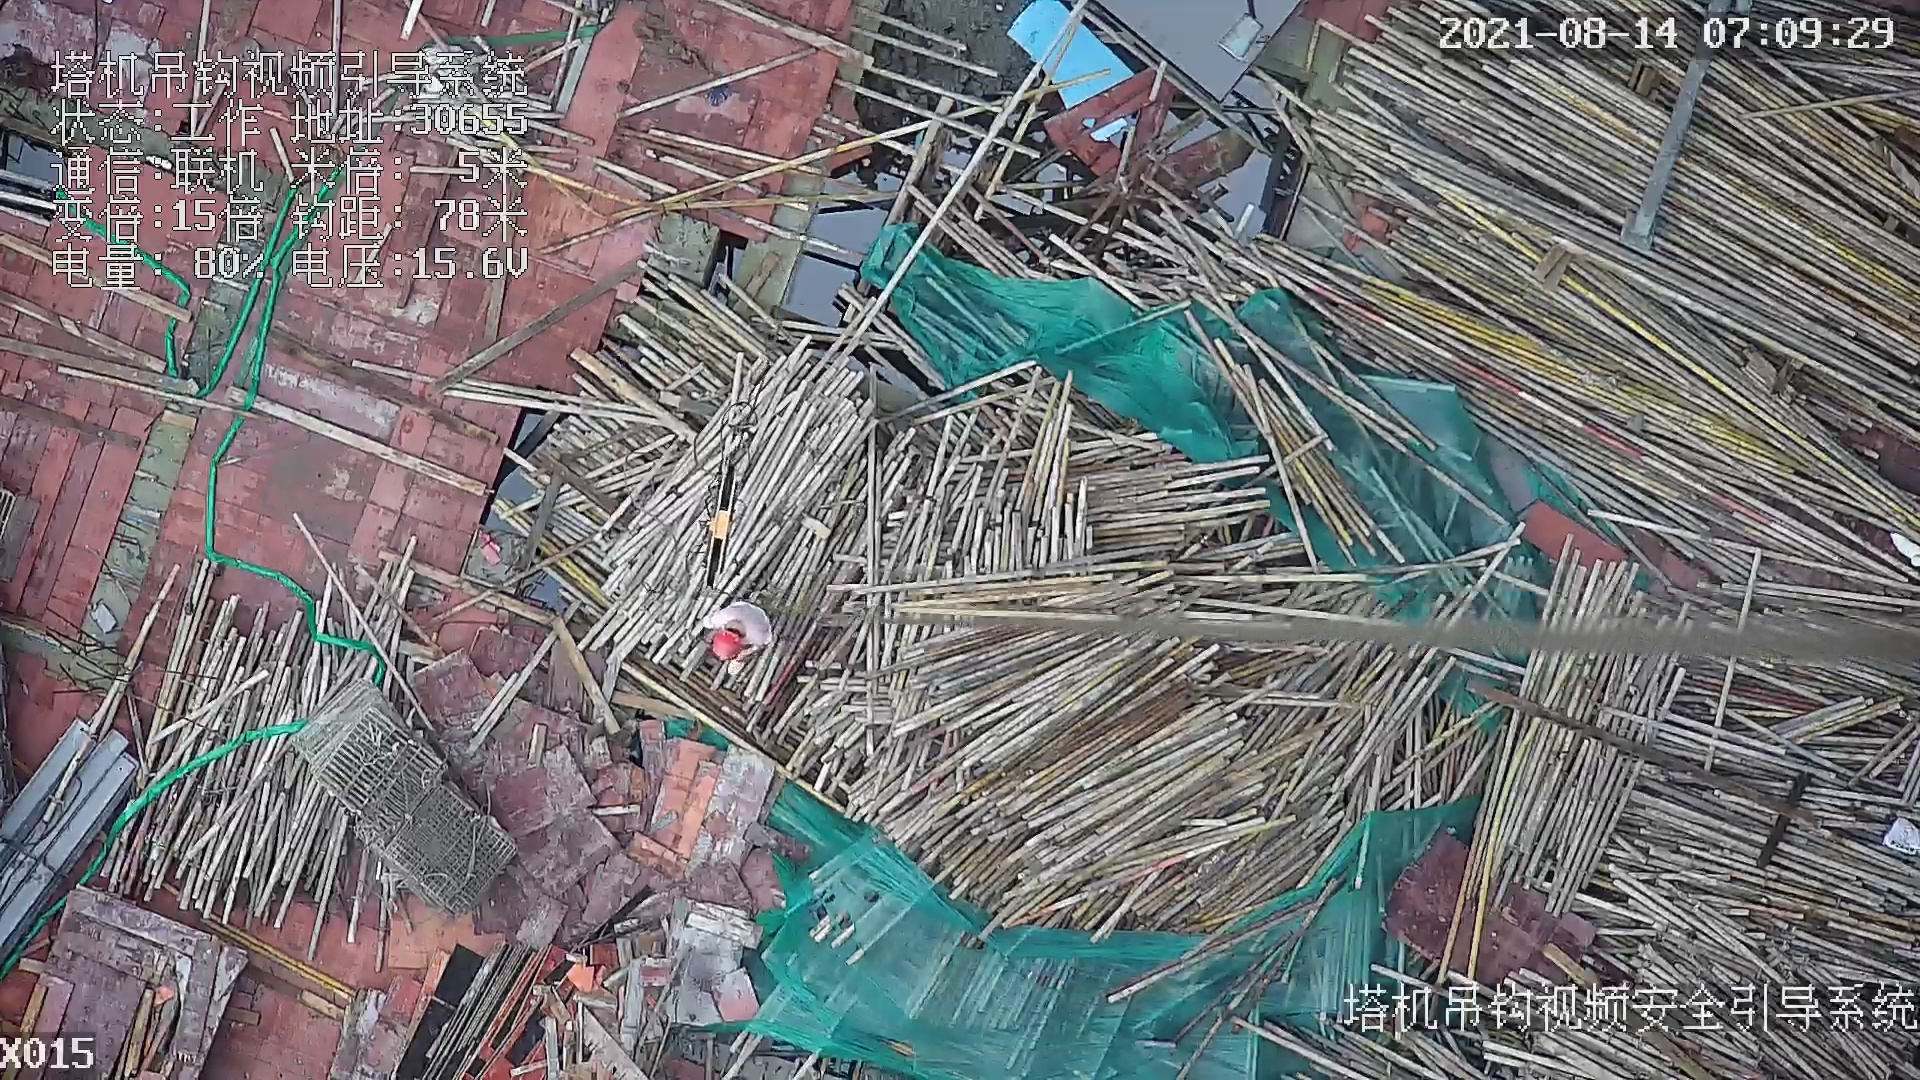helmet: (710, 630, 743, 658)
hook: (699, 453, 740, 595)
person: (705, 597, 777, 671)
